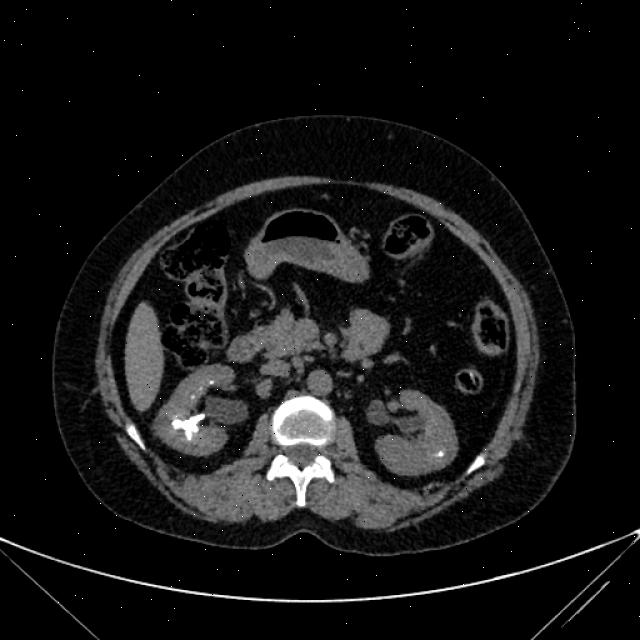kidneystone: (172, 414, 204, 441)
